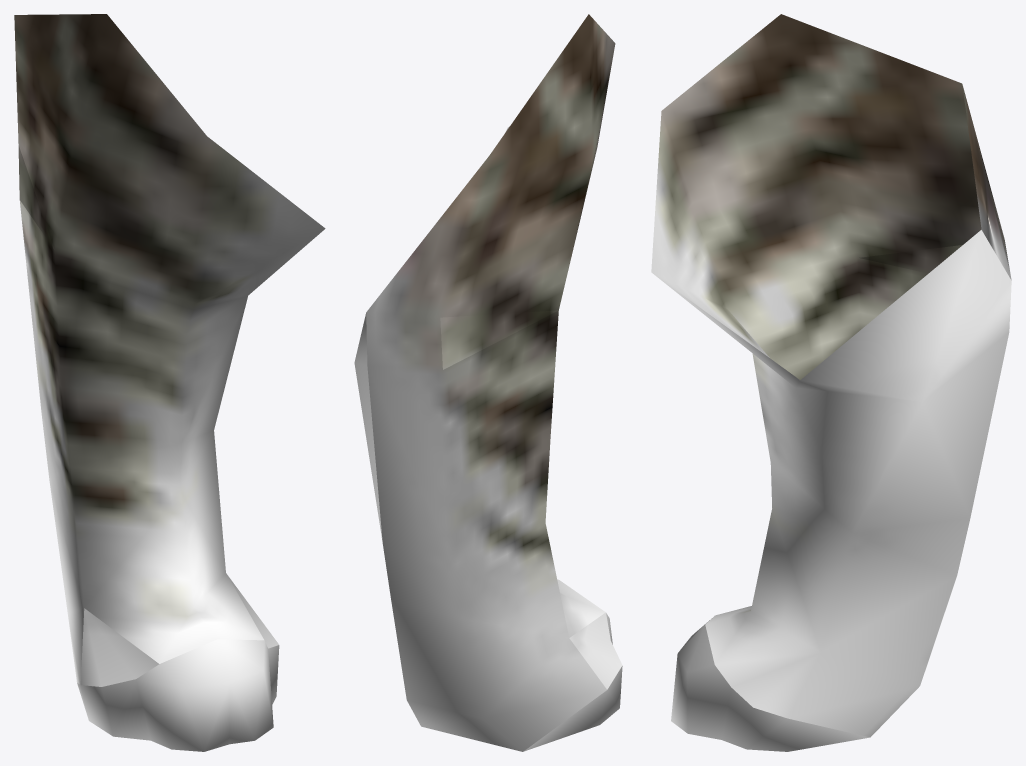
The model's file is r_arm.obj.
3 renders of one model, left to right at view 1: azimuth 30°, elevation 25°; view 2: azimuth 150°, elevation 25°; view 3: azimuth 270°, elevation 25°, orthographic. The views are drawn at different scales.
Parts seen in each view (by area): view 1: vsn_mesh_2__mesh_2_.003; view 2: vsn_mesh_2__mesh_2_.003; view 3: vsn_mesh_2__mesh_2_.003.
Part boxes in pixels (bbox=[...]): vsn_mesh_2__mesh_2_.003: bbox=[14, 14, 325, 751]; vsn_mesh_2__mesh_2_.003: bbox=[354, 14, 622, 751]; vsn_mesh_2__mesh_2_.003: bbox=[651, 14, 1011, 751].
Bounding box in the file's own units: 0.4732 × 1.81 × 0.8578.
Materials: 2 (2 with a texture image).
